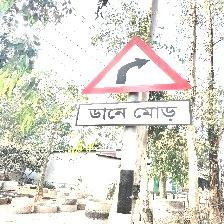Right-turn: (76, 35, 193, 127)
